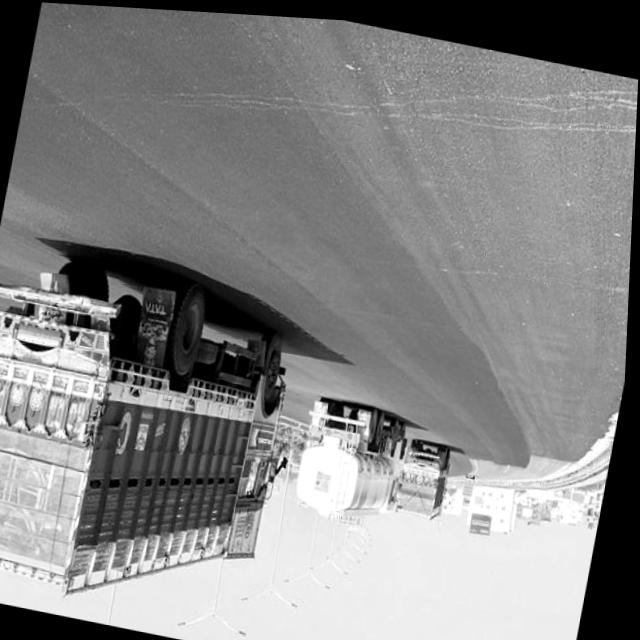cleat: (0, 2, 639, 596)
